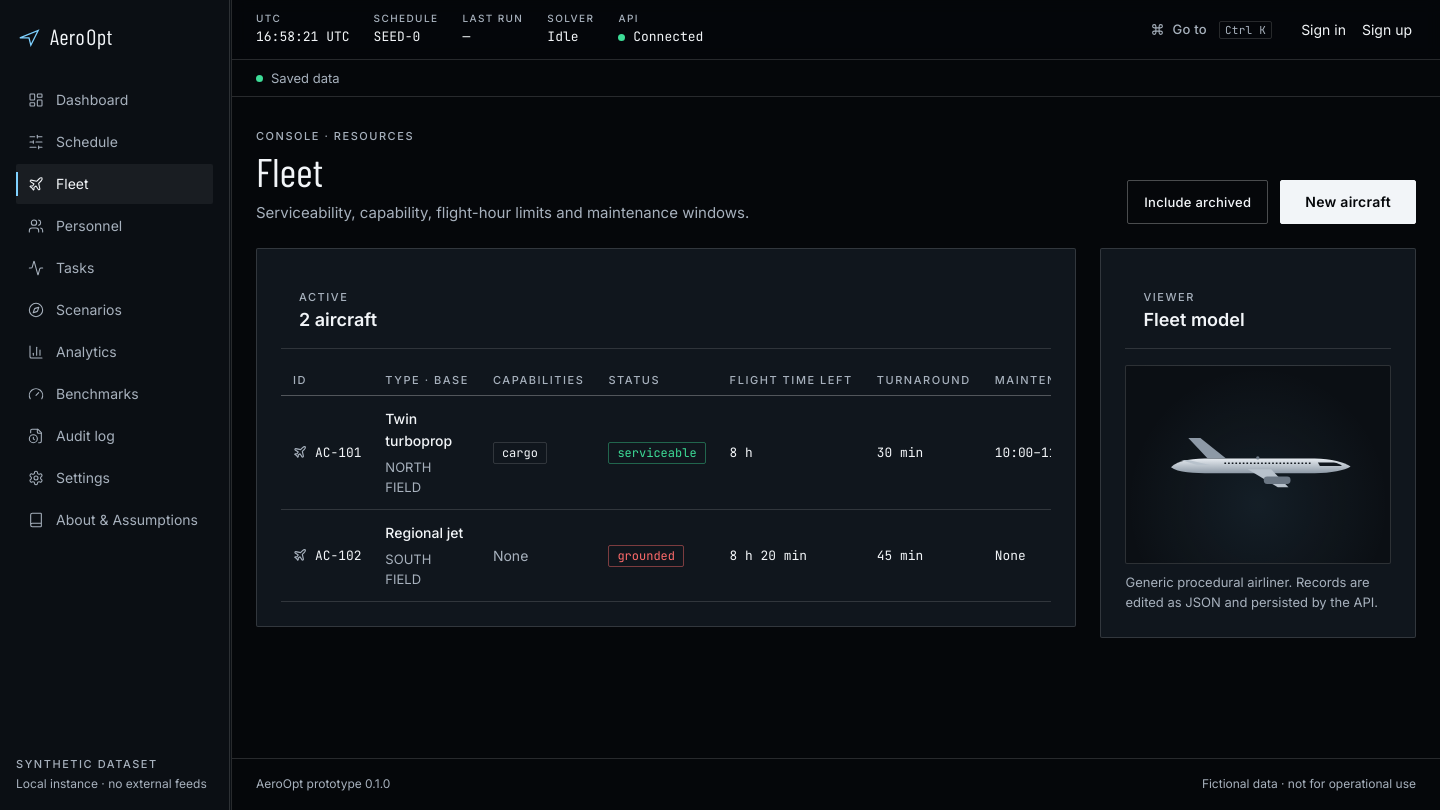
Console › Fleet lists aircraft and opens the JSON editor
Expected: the text "AC-101" is shown, [281,396,373,510]
Expected: the text "8 h" is shown, [718,396,865,510]
Step 1. Click the button "New aircraft" → (1348, 202), box [1280,180,1416,224]
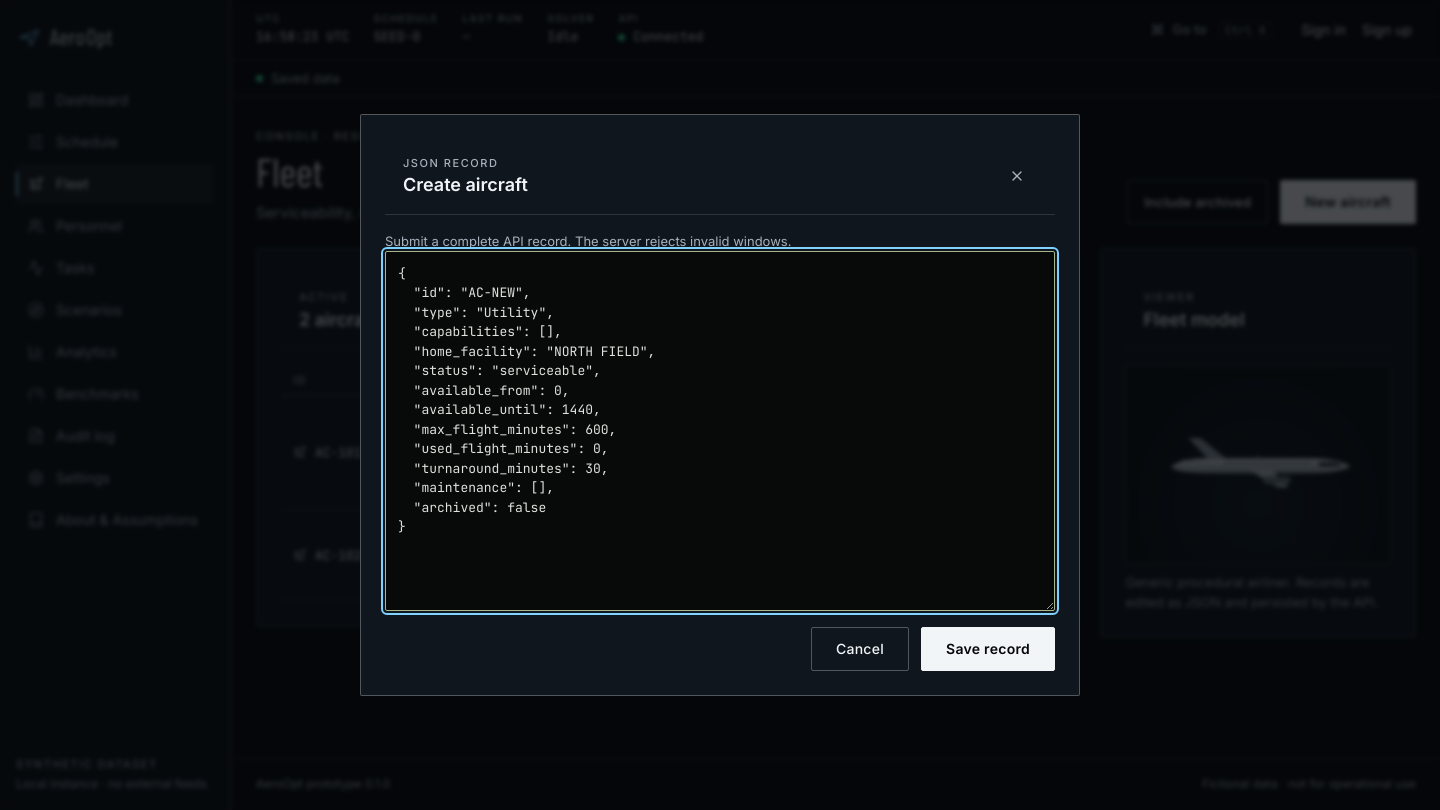
Expected: the text box named "Record JSON" holds "AC-NEW", [385,251,1055,611]
